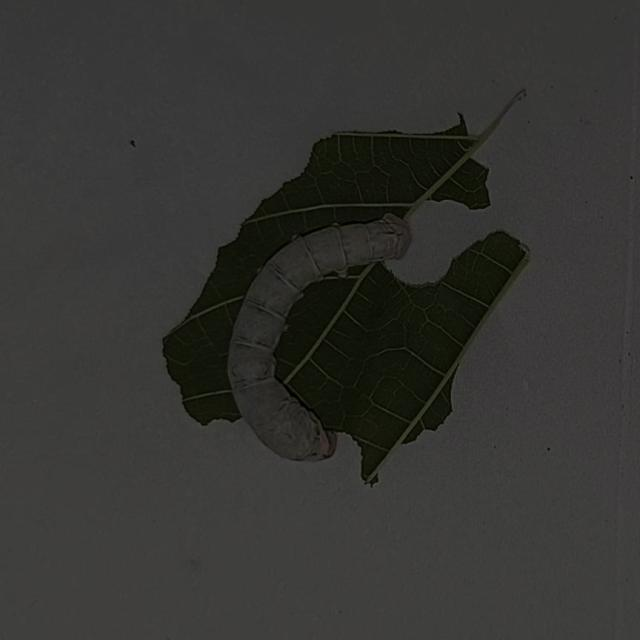Healthy: (214, 207, 421, 474)
